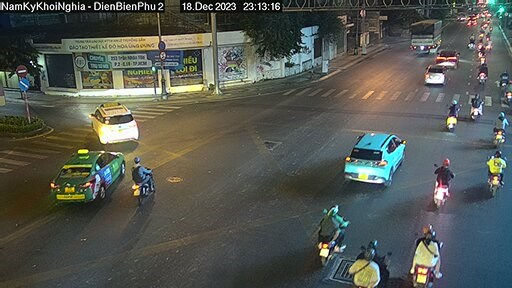car: (339, 126, 404, 192), (49, 146, 120, 205), (89, 98, 146, 142), (420, 62, 450, 91), (434, 47, 463, 69)
motorbike: (407, 221, 446, 285), (305, 200, 344, 257), (122, 152, 162, 204), (347, 242, 389, 288), (426, 154, 456, 204), (482, 146, 512, 196), (440, 94, 463, 131), (491, 107, 512, 146), (462, 87, 485, 115), (475, 61, 492, 87), (493, 65, 511, 89)
truck: (406, 17, 446, 58)
